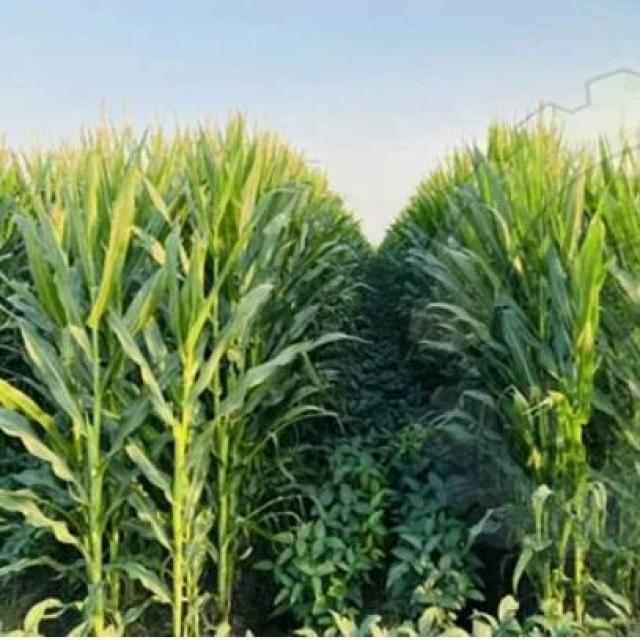row: (240, 284, 548, 640)
